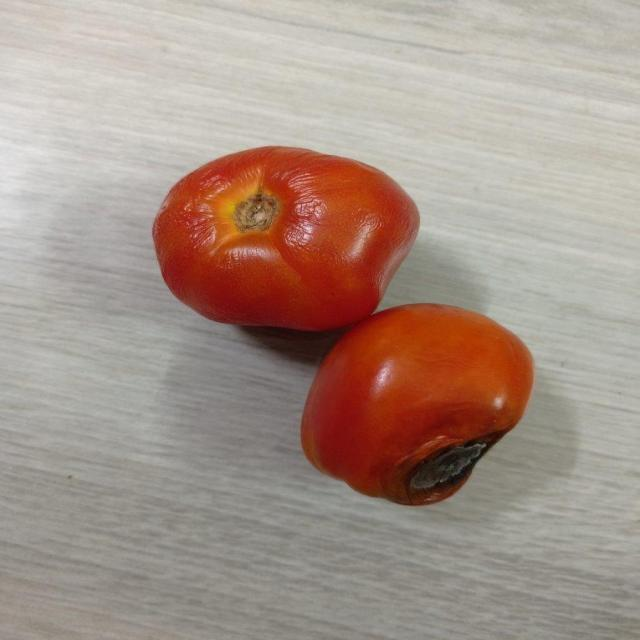Rotten: (300, 304, 533, 503)
overripe: (152, 144, 418, 330)
